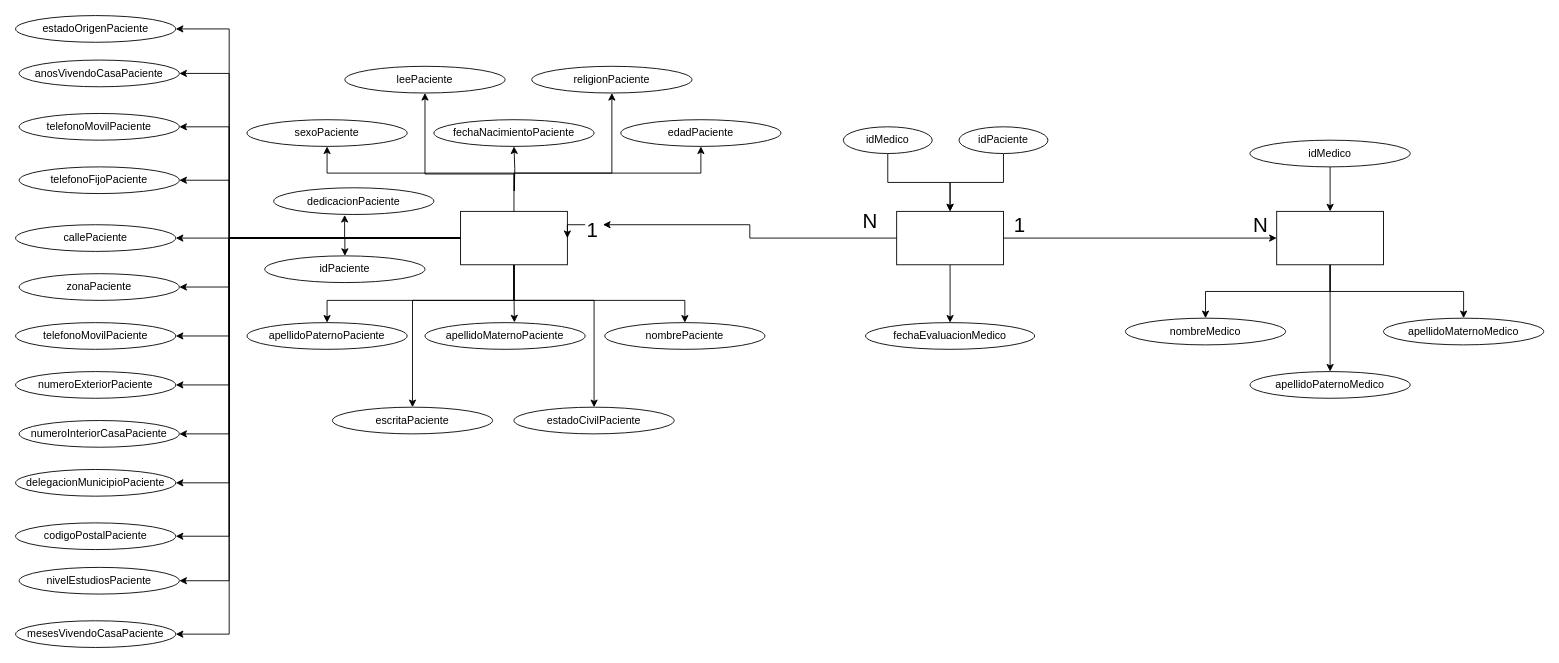
Some shapes in this 1559 by 663 pixel diagram are drawn without their labels. The shapes that lost their labels are listed below. From the top down, each one's centre as x and y in pixels, then its label:
At (513,237): "Paciente".
At (949,237): "FechaEvaluacion".
At (1330,237): "Medico".
